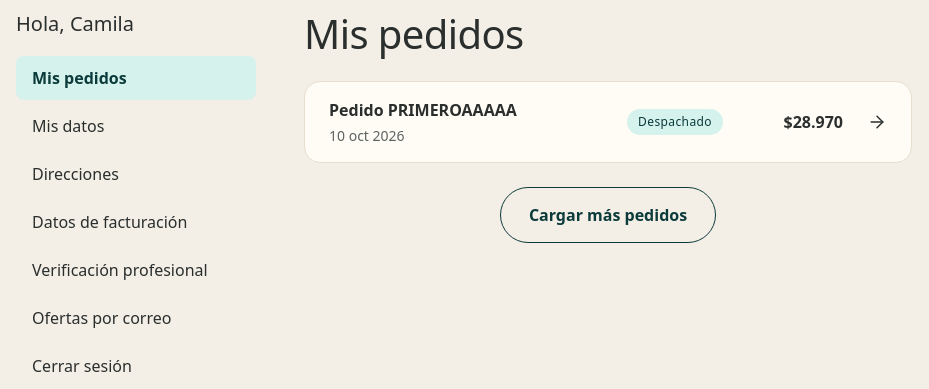
Test: Mis pedidos (SCRUM-129) › E8-H1 FE · listado: «Cargar más pedidos» trae la página siguiente sin perder la actual
The width and height of the screenshot is (929, 389).
Click the button "Cargar más pedidos": (608, 215) 500,187 -> 716,243
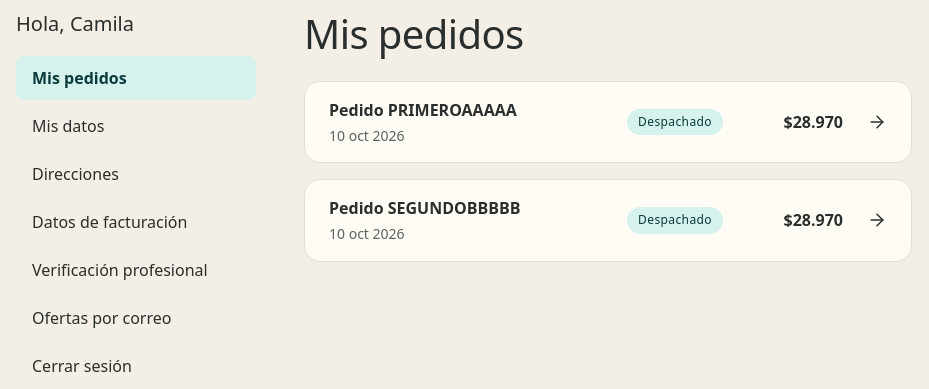
Expected: the text "Pedido PRIMEROAAAAA" is shown, 329,98 -> 517,122
Expected: the text "Pedido SEGUNDOBBBBB" is shown, 329,196 -> 520,220
Expected: the button "Cargar más pedidos" is gone
